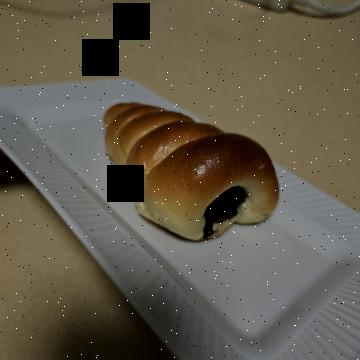cream horn: (95, 63, 258, 264)
